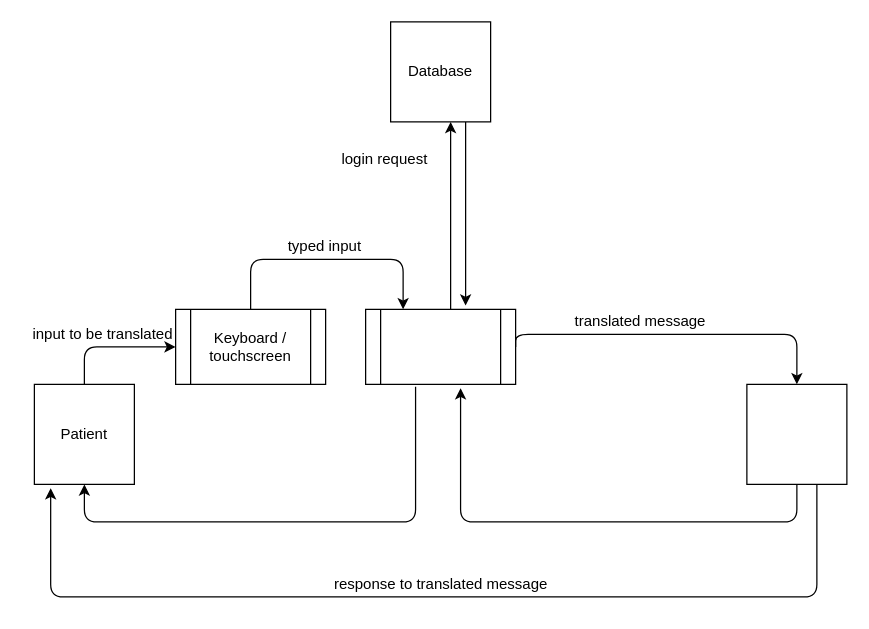
This 869x629 diagram has some shape labels left out. Each missing label, with the centre of its shape:
Caretaker: the point at 796,433
Communication App: the point at 440,346
